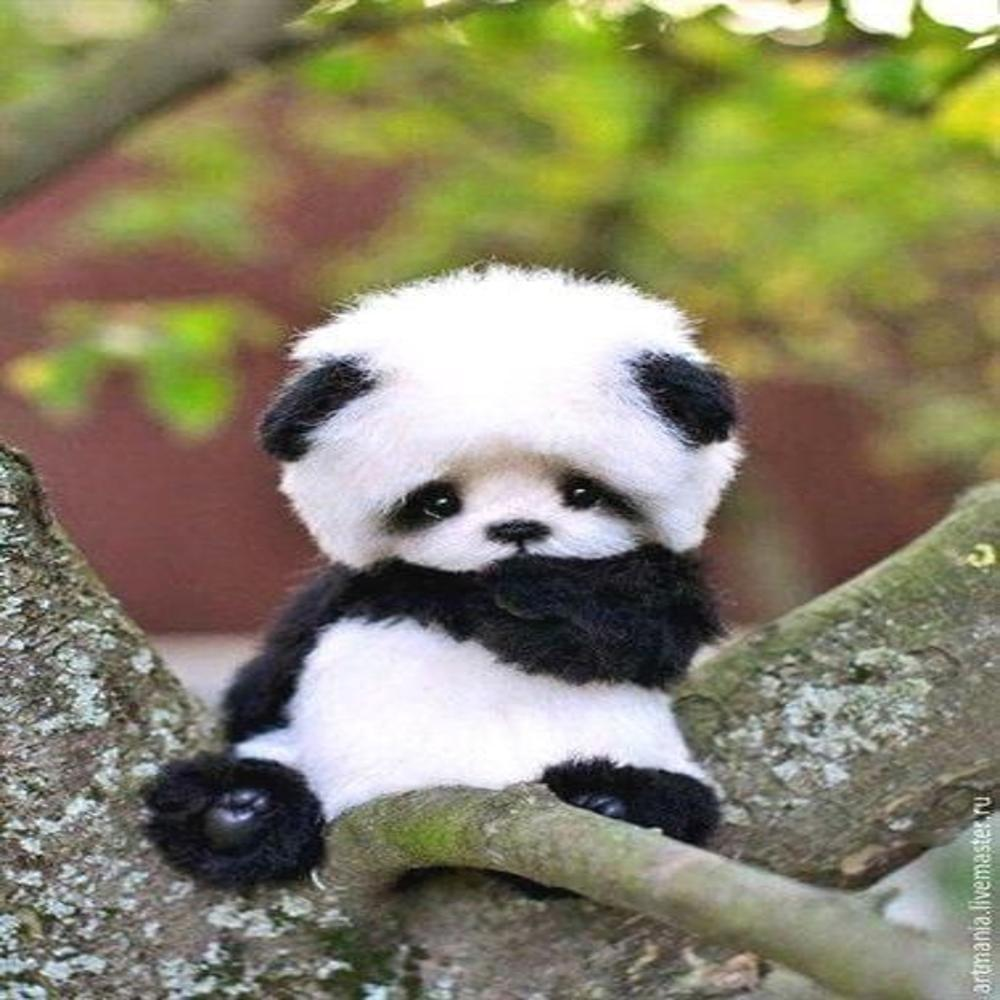panda: (178, 260, 750, 899)
